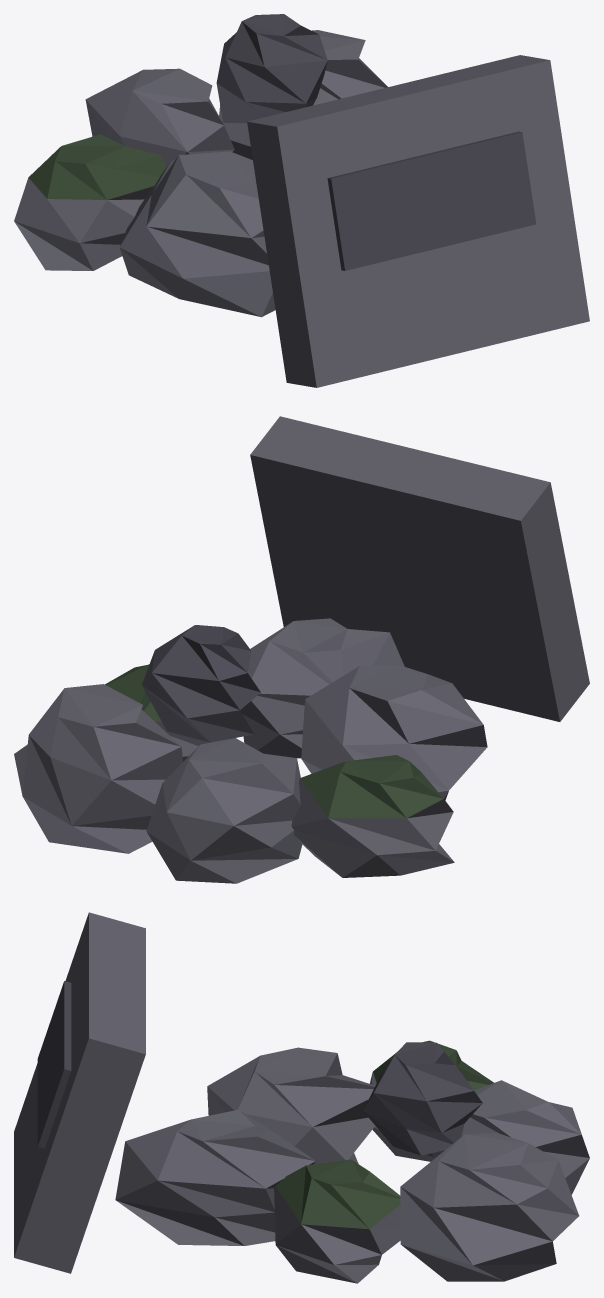
The model's file is oath-cairn.glb.
3 renders of one model, top to bottom at view 1: azimuth 30°, elevation 25°; view 2: azimuth 150°, elevation 25°; view 3: azimuth 270°, elevation 25°, orthographic. The views are drawn at different scales.
Parts seen in each view (by area): view 1: oath-cairn; view 2: oath-cairn; view 3: oath-cairn.
Part boxes in pixels (<box>): oath-cairn: <box>14,14,589,387</box>; oath-cairn: <box>14,416,589,883</box>; oath-cairn: <box>14,912,589,1283</box>.
Size of the model in its own units: 0.6034 by 0.3519 by 0.7723.
